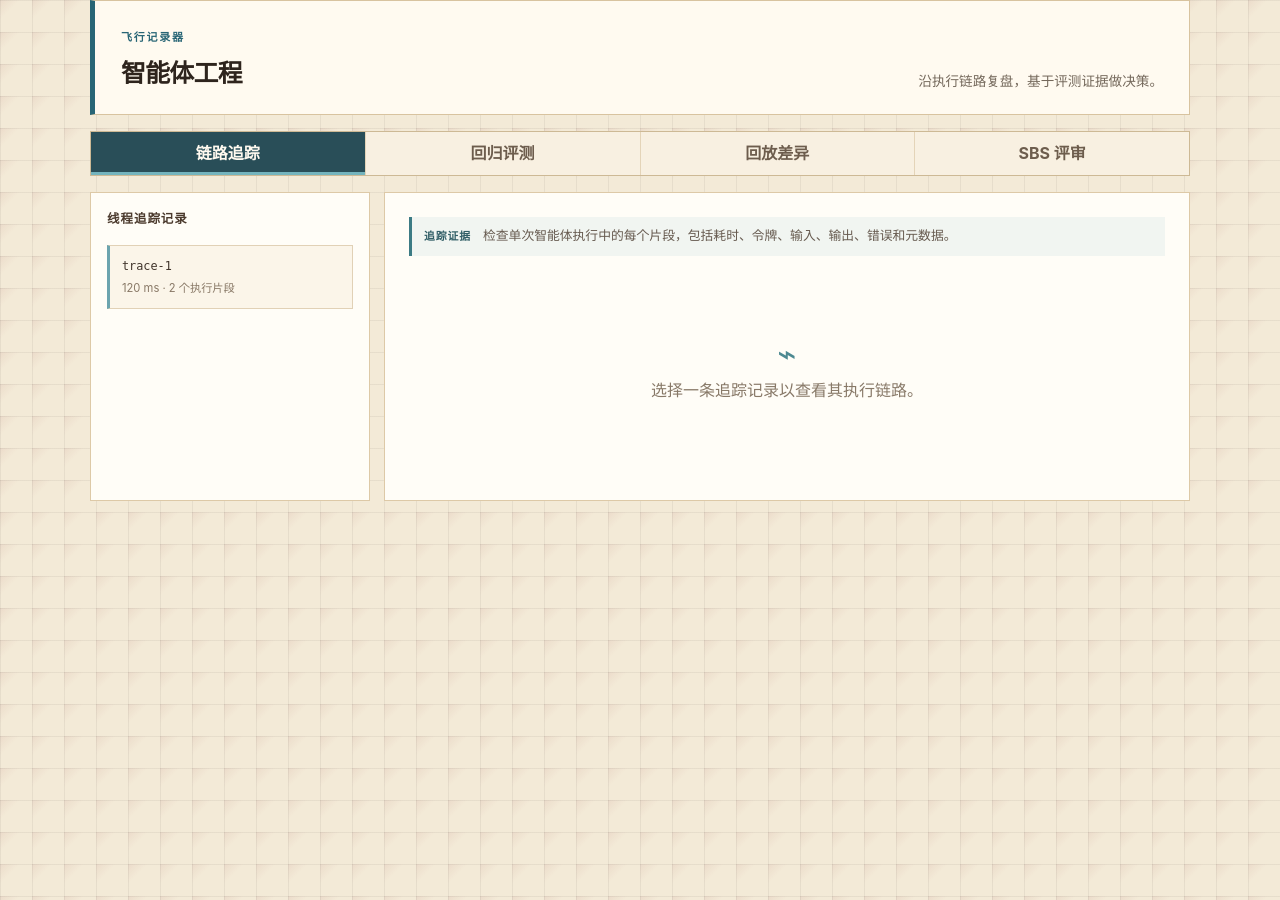
EngineeringPanel › renders the four tools and drills into a trace tree
Expected: the tab "链路追踪" is shown, [91,132,365,175]
Expected: the tab "回归评测" is shown, [366,132,640,175]
Click the button "trace-1 120 ms · 2 个执行片段". click: {"x": 230, "y": 277}
box: [107,245,353,309]
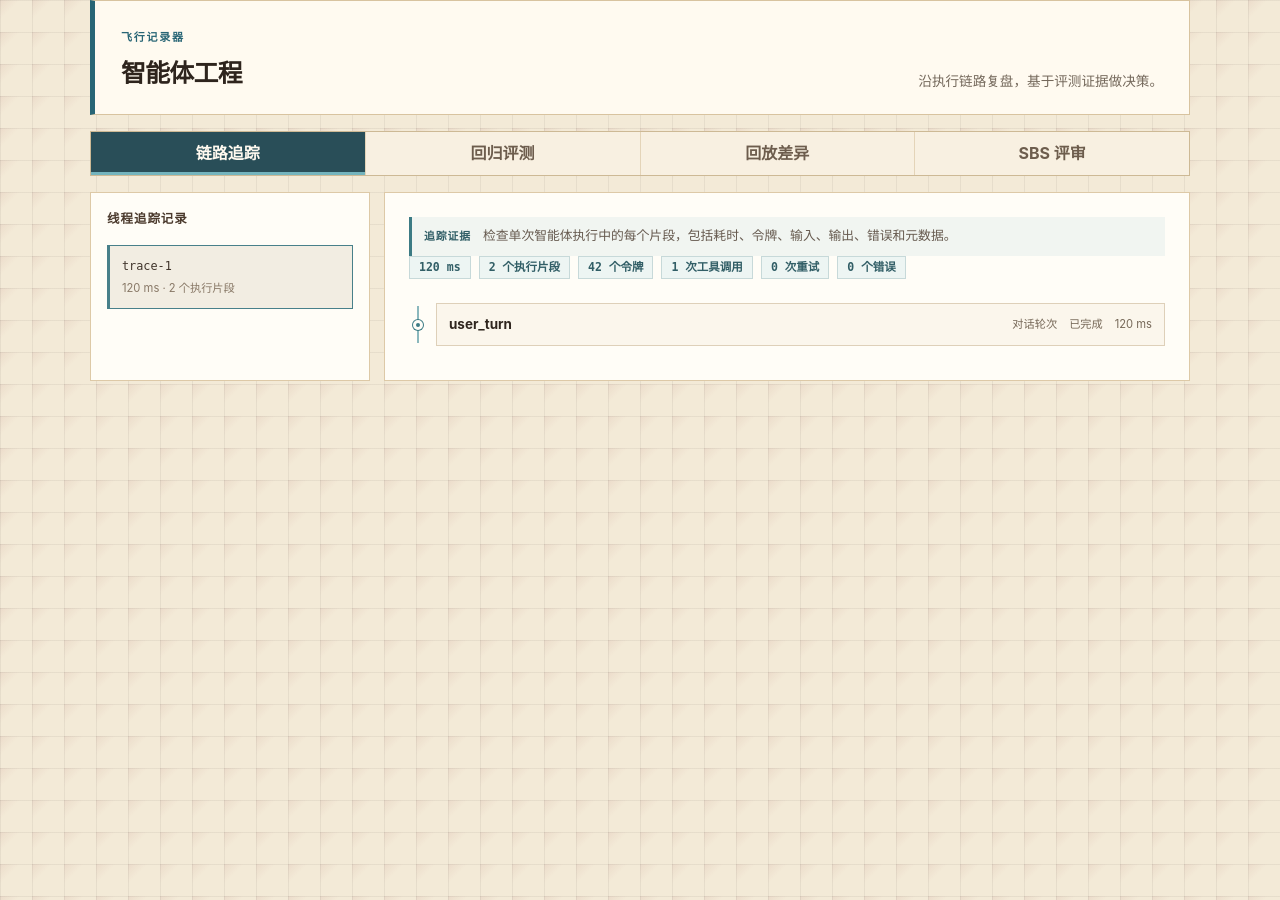
Result: the text "user_turn" is shown
Result: the text "120 ms" is shown 2 times at [409,256,471,279]; [1115,316,1152,334]
Result: the text "1 次工具调用" is shown at [661,256,753,279]
Click the text "user_turn". click: {"x": 480, "y": 324}
box: [449,316,512,332]
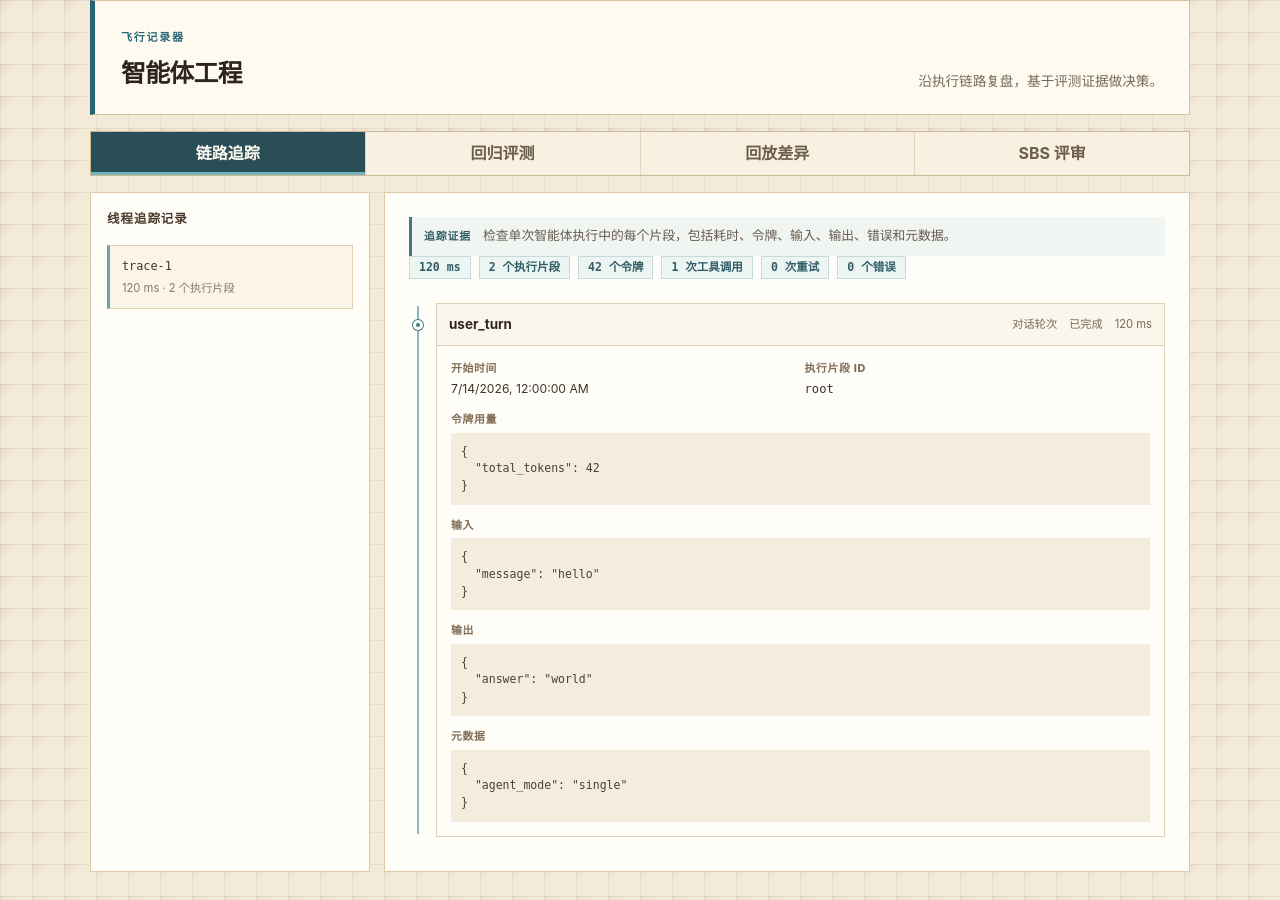
Result: the text "执行片段 ID" is shown at [804,361,866,375]
Result: the text "root" is shown at [804,382,834,396]
Result: the heading "令牌用量" is shown at [451,412,497,426]
